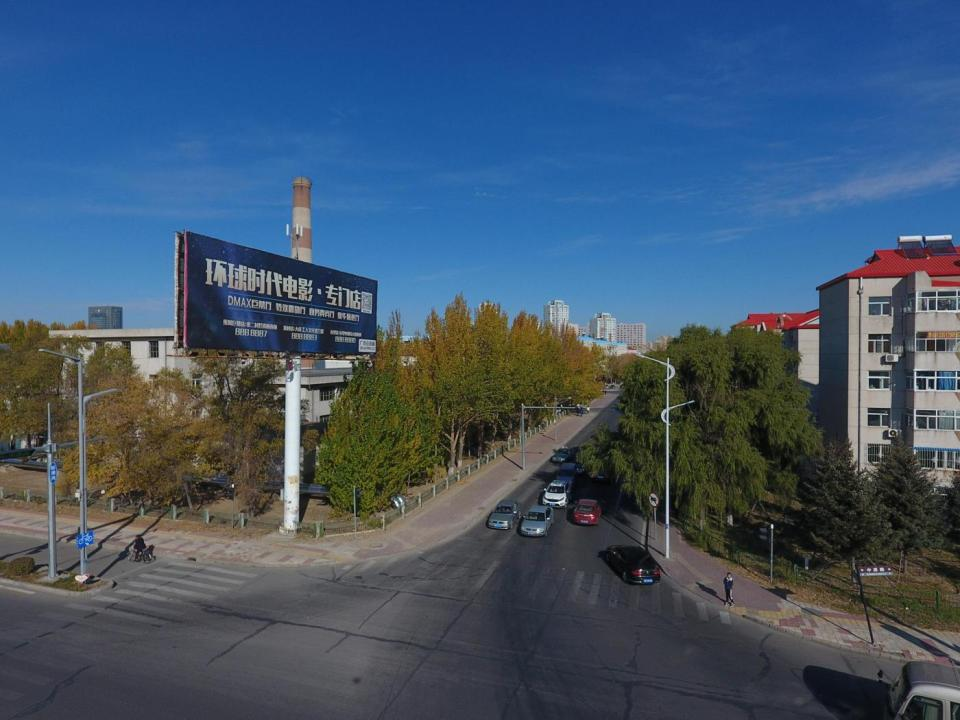car: (606, 544, 661, 584), (520, 506, 554, 538), (488, 500, 521, 530), (591, 450, 617, 485), (542, 480, 571, 510), (572, 498, 602, 526), (571, 446, 593, 477), (551, 446, 574, 463), (610, 384, 615, 389), (604, 384, 608, 389)
van: (556, 462, 578, 488)
